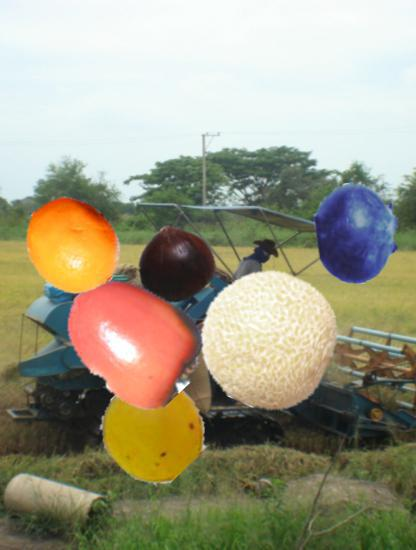Cantaloupe: (198, 268, 339, 409)
Chestnut: (137, 223, 218, 304)
Grape: (102, 378, 205, 481)
Huckleberry: (307, 182, 409, 284)
Kaki: (64, 268, 205, 409)
Lemon: (21, 195, 124, 298)
